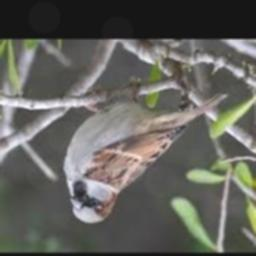Sparrow: (63, 92, 227, 223)
